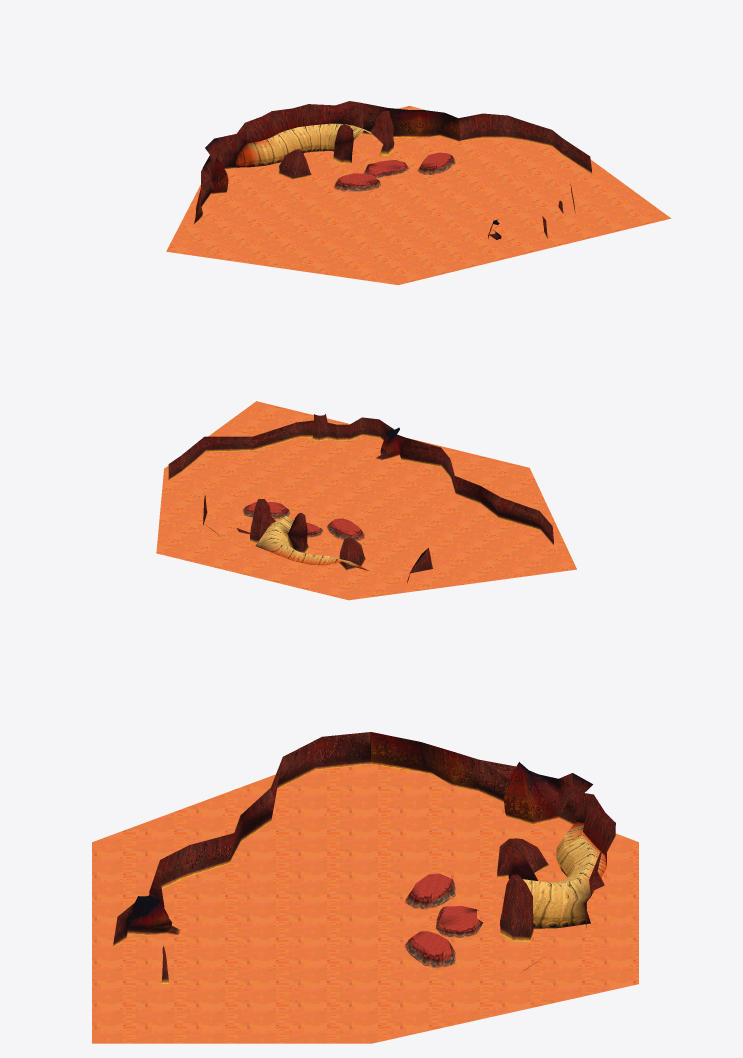
The model's file is AlienBossEndSequence.glb.
3 views of the same model, one above another, from view 1: azimuth 30°, elevation 25°; view 2: azimuth 150°, elevation 25°; view 3: azimuth 270°, elevation 25° (orthographic). The views are drawn at different scales.
Visible parts, largest first — view 1: AlienBossEndSequence_Alpha_7, AlienBossEndSequence_2, AlienBossEndSequence_3, AlienBossEndSequence_1, AlienBossEndSequence_6, AlienBossEndSequence_9, AlienBossEndSequence_4, AlienBossEndSequence_16, AlienBossEndSequence_5; view 2: AlienBossEndSequence_Alpha_7, AlienBossEndSequence_3, AlienBossEndSequence_2, AlienBossEndSequence_6, AlienBossEndSequence_9, AlienBossEndSequence_1; view 3: AlienBossEndSequence_Alpha_7, AlienBossEndSequence_2, AlienBossEndSequence_3, AlienBossEndSequence_1, AlienBossEndSequence_6, AlienBossEndSequence_9, AlienBossEndSequence_16, AlienBossEndSequence_4, AlienBossEndSequence_5.
Boxes of the visible parts, box(x1,y1,x2,y2) form: AlienBossEndSequence_Alpha_7: box(166, 106, 670, 285); AlienBossEndSequence_2: box(195, 110, 590, 232); AlienBossEndSequence_3: box(194, 116, 591, 239); AlienBossEndSequence_1: box(201, 101, 499, 228); AlienBossEndSequence_6: box(193, 130, 592, 239); AlienBossEndSequence_9: box(238, 123, 374, 153); AlienBossEndSequence_4: box(234, 134, 336, 164); AlienBossEndSequence_16: box(341, 152, 449, 181); AlienBossEndSequence_5: box(234, 145, 334, 167); AlienBossEndSequence_Alpha_7: box(156, 401, 576, 600); AlienBossEndSequence_3: box(168, 423, 553, 580); AlienBossEndSequence_2: box(168, 414, 553, 570); AlienBossEndSequence_6: box(168, 431, 553, 582); AlienBossEndSequence_9: box(256, 515, 368, 570); AlienBossEndSequence_1: box(204, 414, 439, 556); AlienBossEndSequence_Alpha_7: box(92, 764, 638, 1043); AlienBossEndSequence_2: box(115, 732, 615, 965); AlienBossEndSequence_3: box(114, 747, 586, 974); AlienBossEndSequence_1: box(127, 759, 615, 957); AlienBossEndSequence_6: box(113, 758, 575, 983); AlienBossEndSequence_9: box(523, 821, 606, 903); AlienBossEndSequence_16: box(413, 873, 476, 951); AlienBossEndSequence_4: box(533, 837, 588, 918); AlienBossEndSequence_5: box(533, 859, 590, 928).
Size of the model in its own units: 1408 by 121 by 1206.
Materials: 17 (17 with a texture image).
